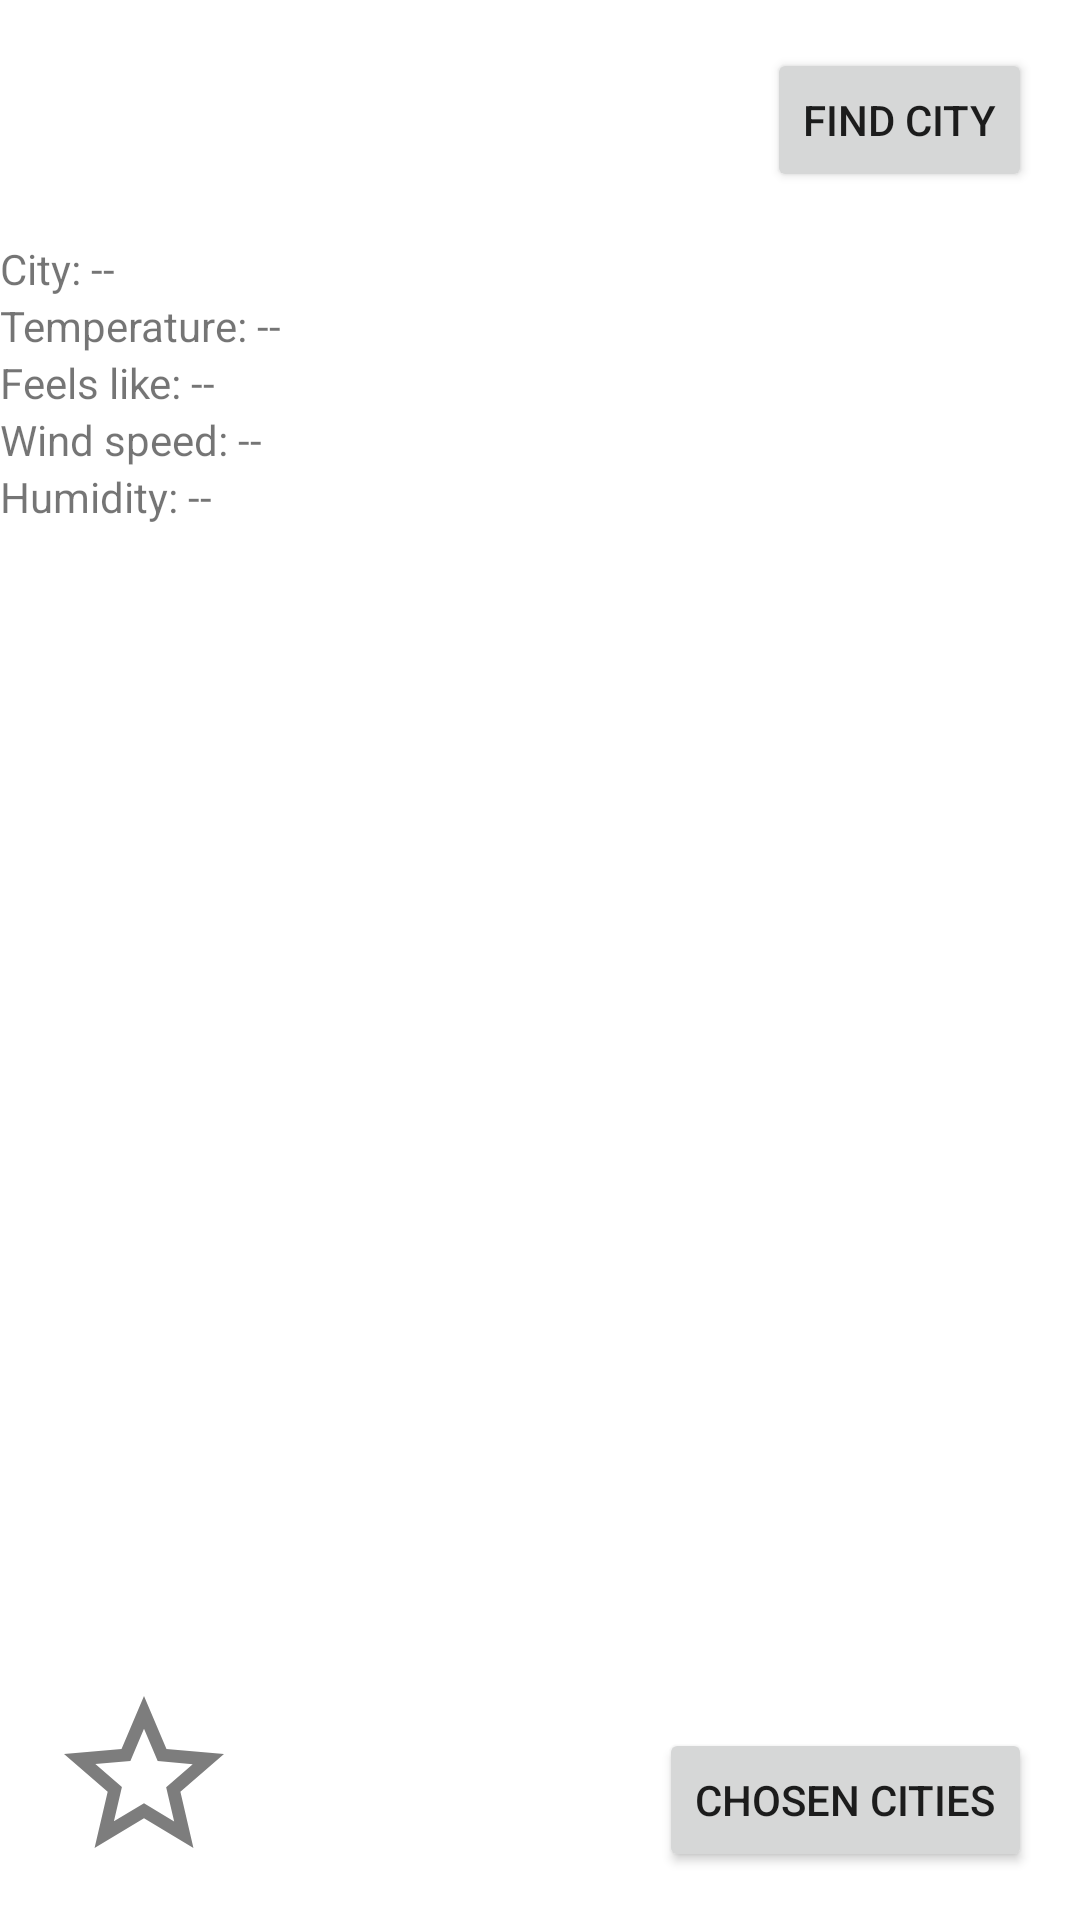

Named icons in this screenshot (1080*1920) and their centers, (x=x, y=y):
star border: (x=144, y=1772)
